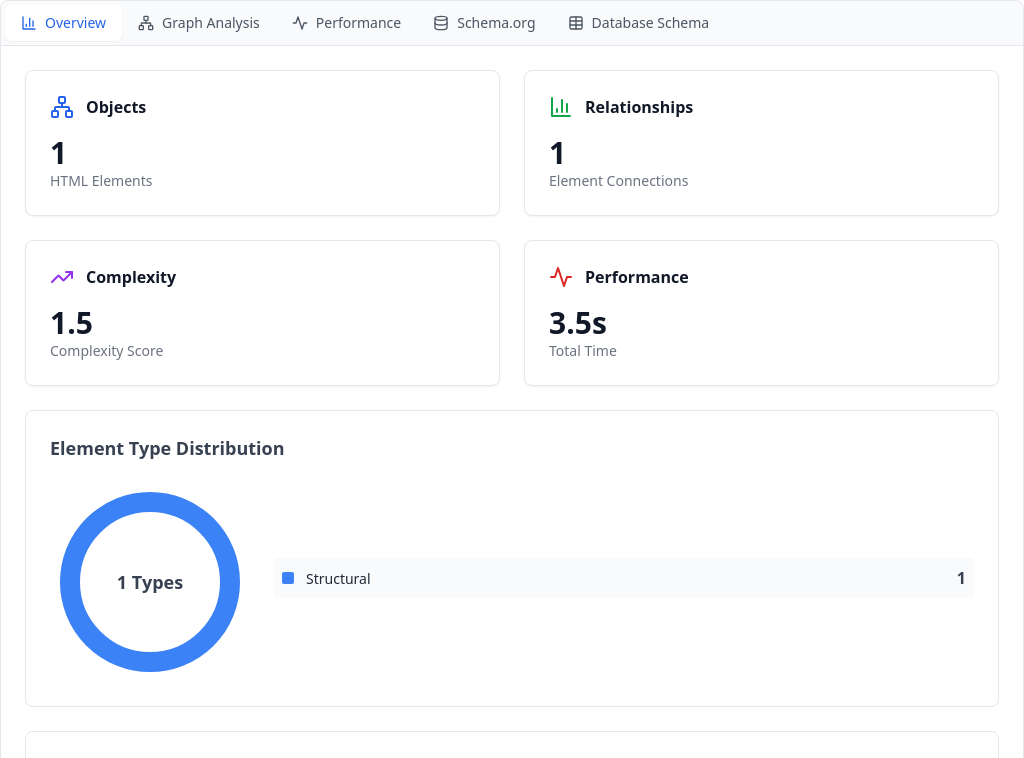
AnalyticsDashboard › displays performance metrics
This screenshot has width=1024, height=758.
Find the button element (tab)
What coordinates should you click on to do the following:
click the button "Performance"
I would click on:
 (346, 23)
Its box is [276,5,417,41].
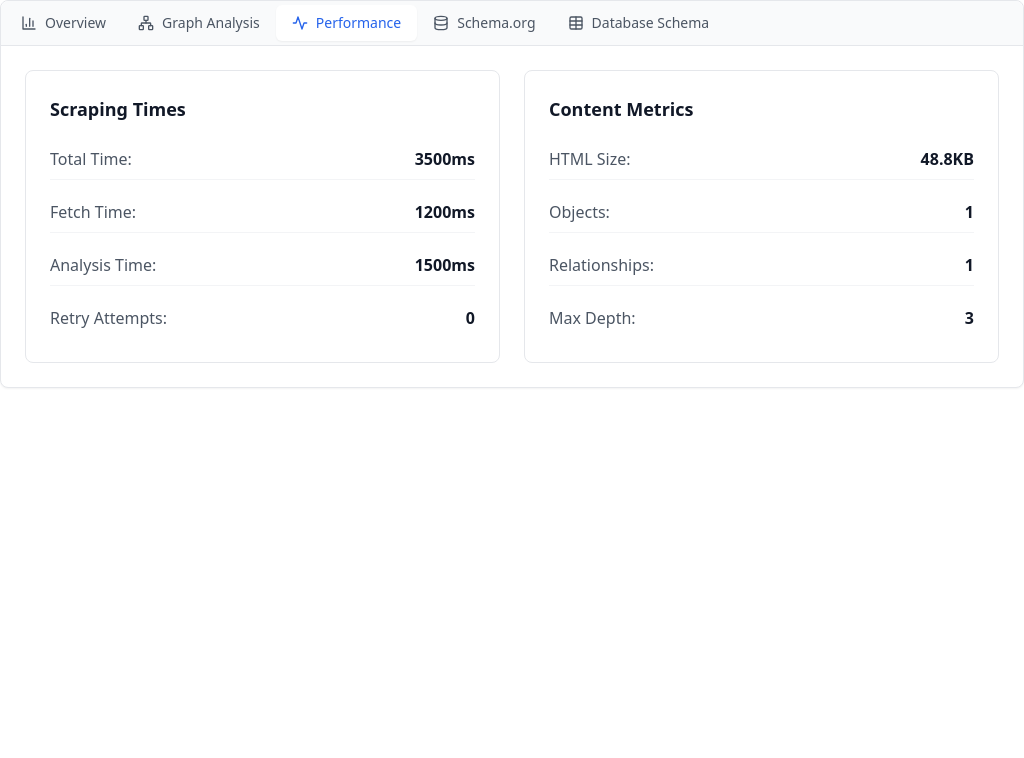
Result: the heading "Scraping Times" is shown at [50,97,186,121]
Result: the text "Total Time:" is shown at [50,147,132,171]
Result: the text "3500ms" is shown at [415,147,475,171]
